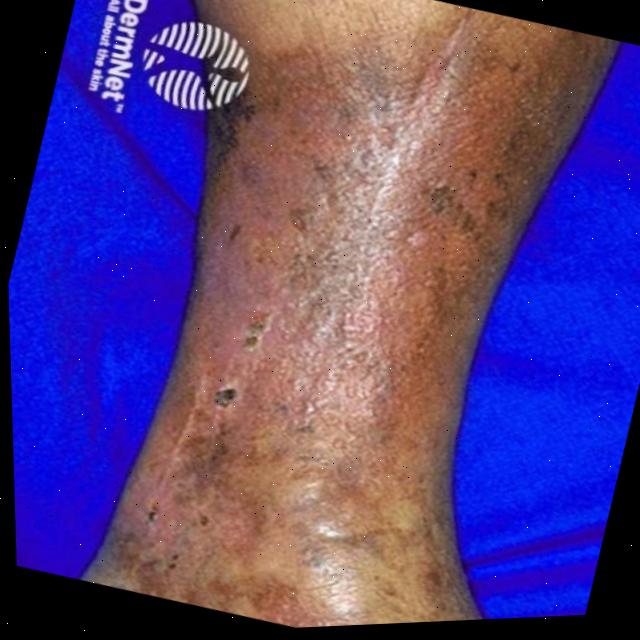Eczema: (92, 0, 520, 636)
